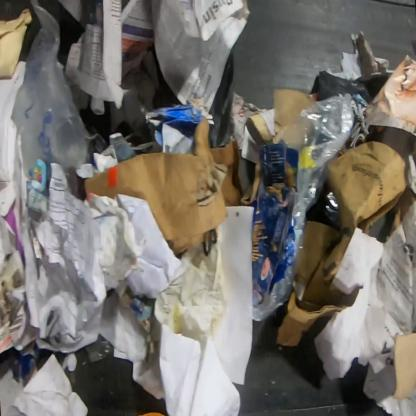cardboard: (80, 112, 229, 262), (276, 220, 360, 347), (326, 141, 411, 237), (252, 139, 299, 310), (136, 98, 216, 152), (272, 89, 320, 144), (209, 140, 243, 207), (389, 330, 415, 403), (8, 339, 41, 378)
soft_plastic: (252, 94, 354, 322), (11, 0, 92, 199), (318, 71, 392, 159)
